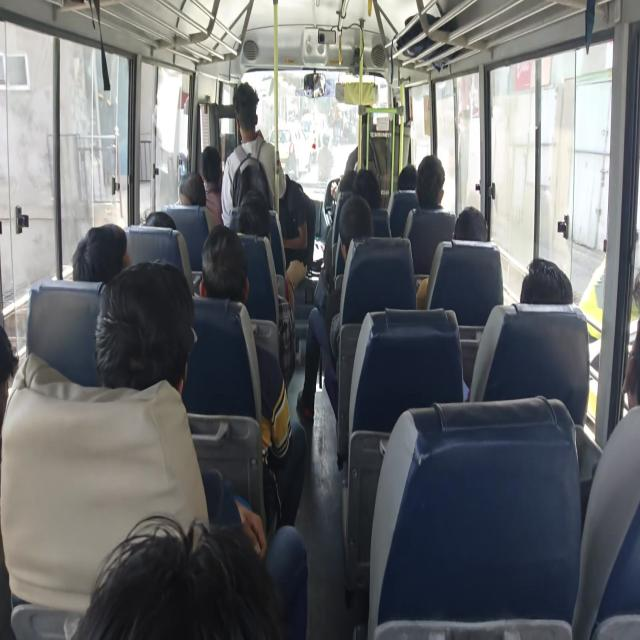person: (105, 499, 359, 640), (94, 270, 214, 402), (270, 170, 306, 312), (514, 253, 578, 318), (0, 331, 34, 424), (623, 291, 640, 457), (232, 86, 270, 148), (338, 202, 381, 252), (179, 171, 221, 221), (80, 218, 120, 266), (194, 234, 234, 280), (221, 202, 255, 245), (458, 200, 487, 243), (204, 143, 224, 187), (143, 205, 174, 233), (427, 175, 451, 209), (357, 176, 378, 210), (237, 189, 261, 215), (401, 165, 418, 193), (340, 166, 353, 194)
